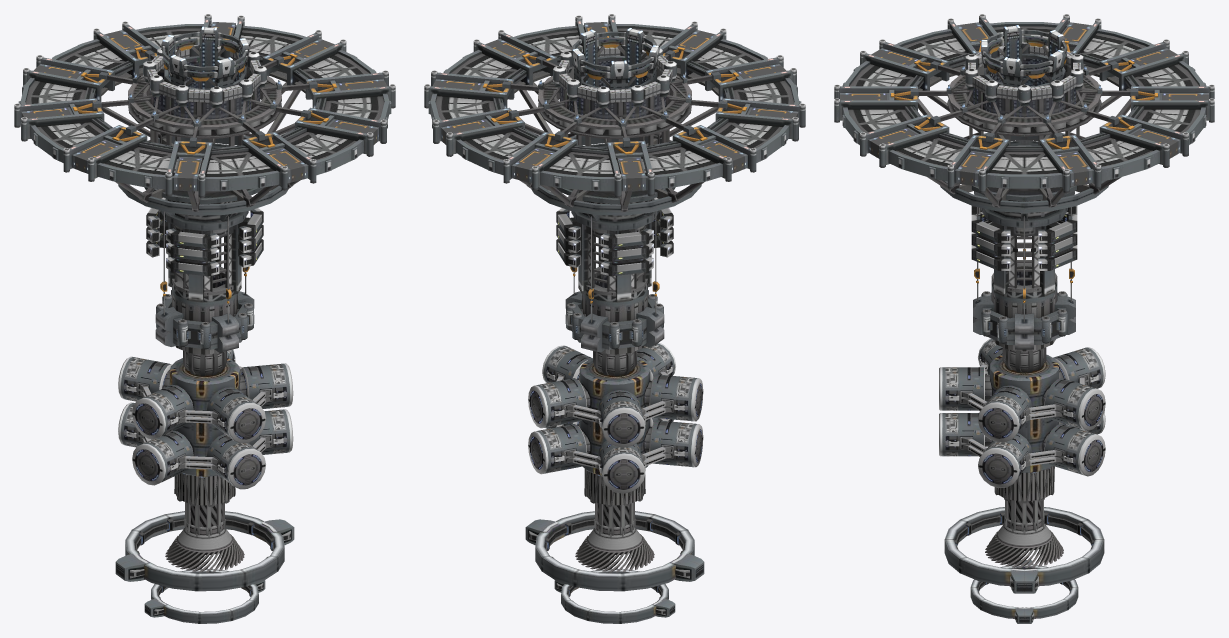
3 renders of one model, left to right at view 1: azimuth 30°, elevation 25°; view 2: azimuth 150°, elevation 25°; view 3: azimuth 270°, elevation 25°, orthographic.
Parts seen in each view (by area): view 1: orbital-collector; view 2: orbital-collector; view 3: orbital-collector.
Boxes of the visible parts, x1,y1,x2,y2 form: orbital-collector: [14, 14, 395, 623]; orbital-collector: [424, 14, 805, 623]; orbital-collector: [834, 14, 1214, 623].
Size of the model in its own units: 27.94 by 45.81 by 28.49.
Materials: 1 (1 with a texture image).
